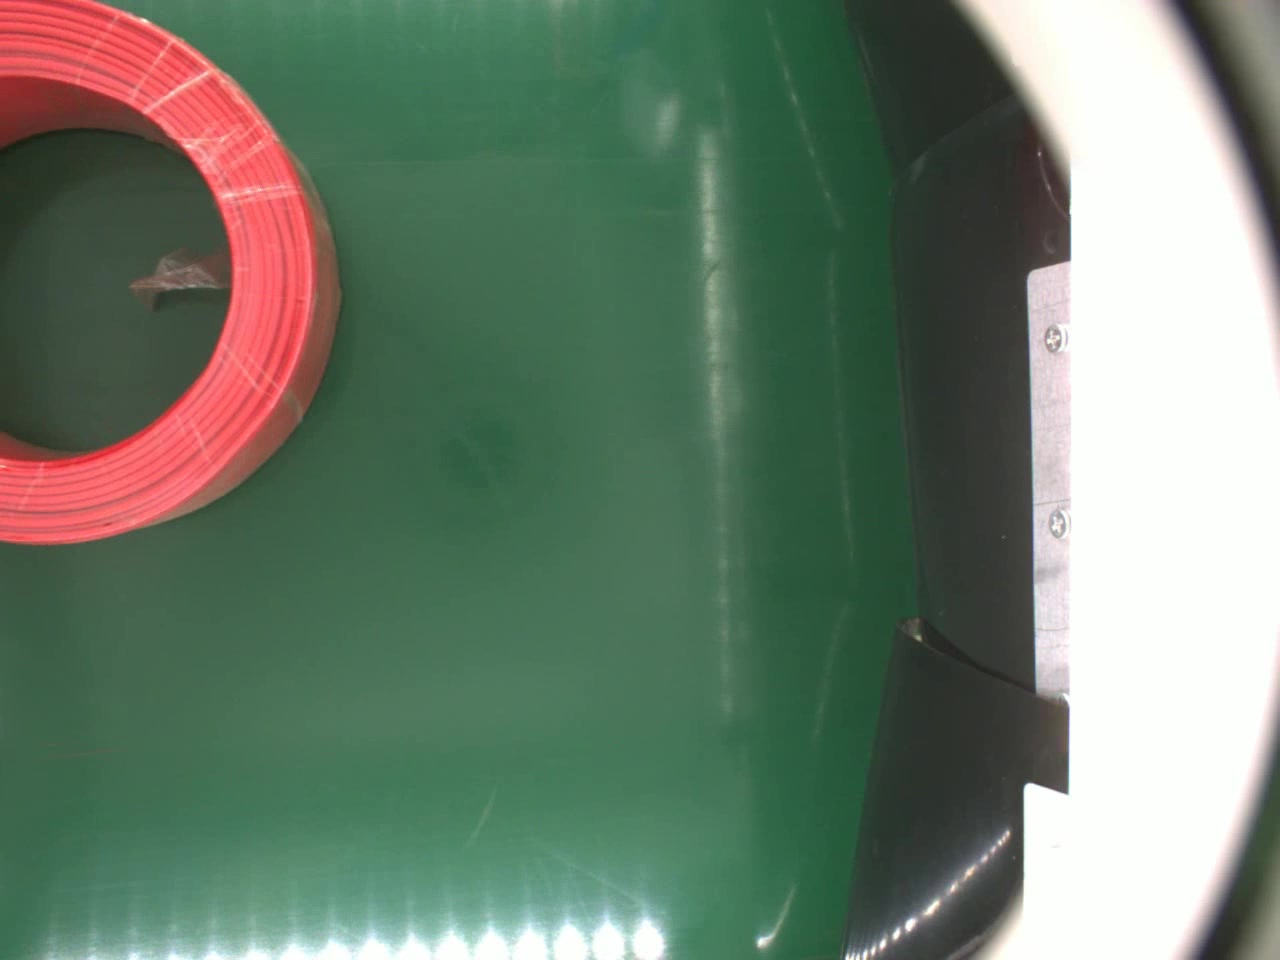red: (0, 0, 340, 544)
